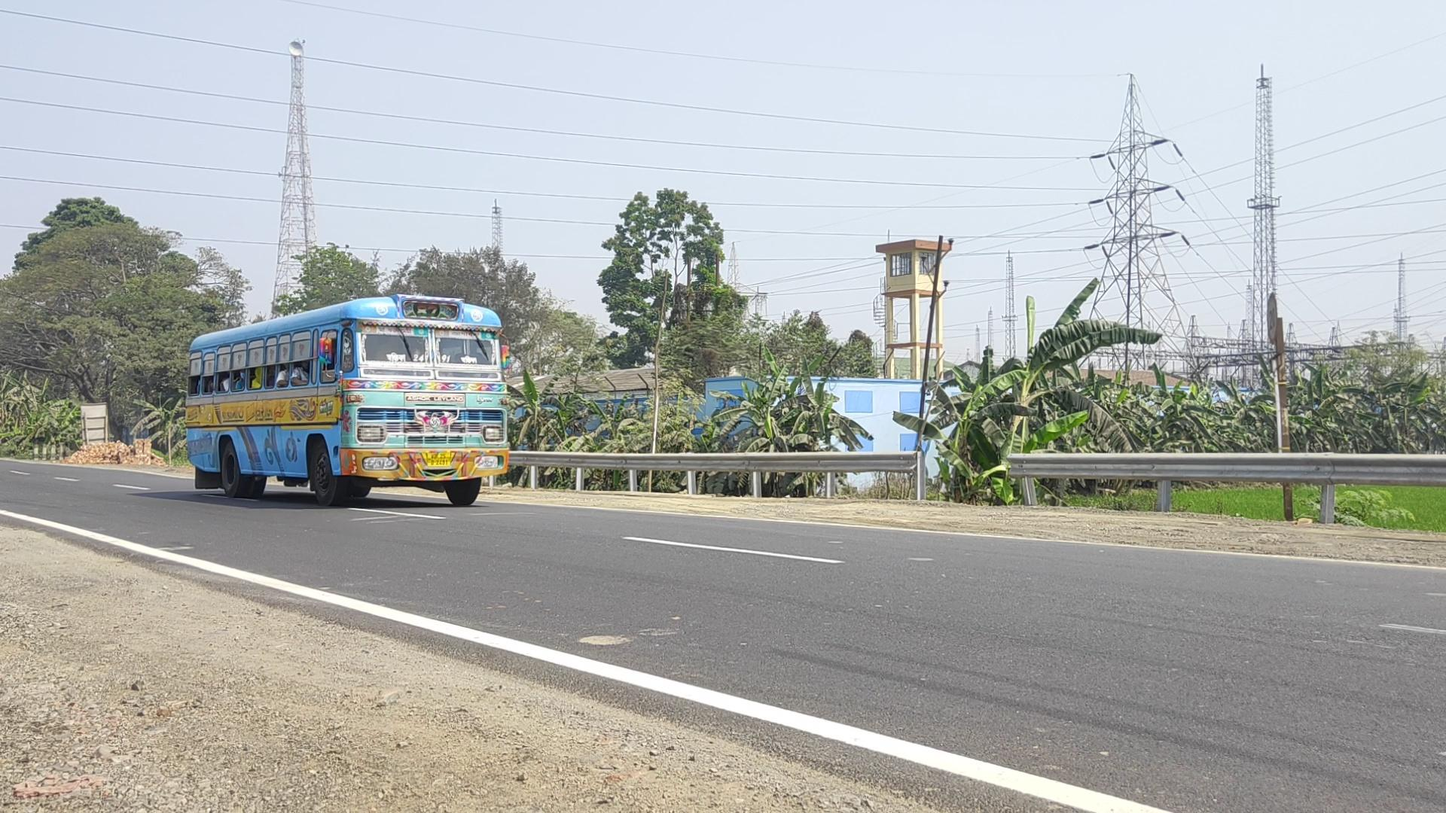Bus: (185, 294, 509, 508)
